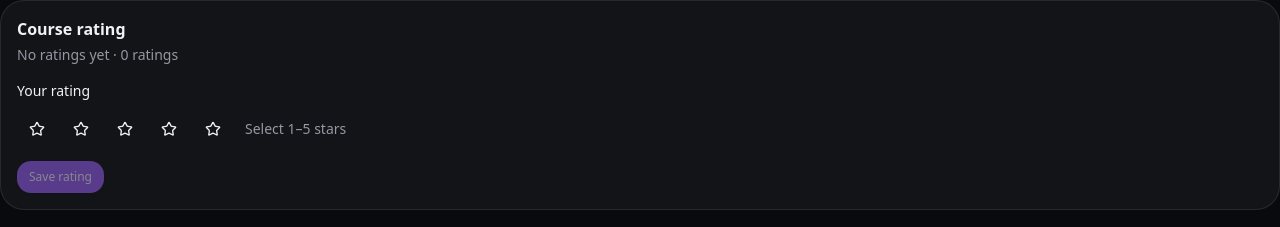
Test: CourseRatingPanel › exposes the selected star through its pressed state
Click the button named "Rate 5 out of 5 stars".
click(213, 129)  # box [193,109,233,149]
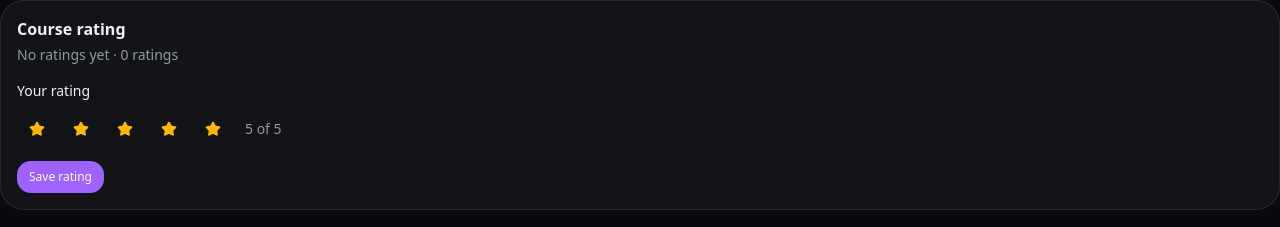
Result: the button named "Rate 5 out of 5 stars" is pressed at [193,109,233,149]
